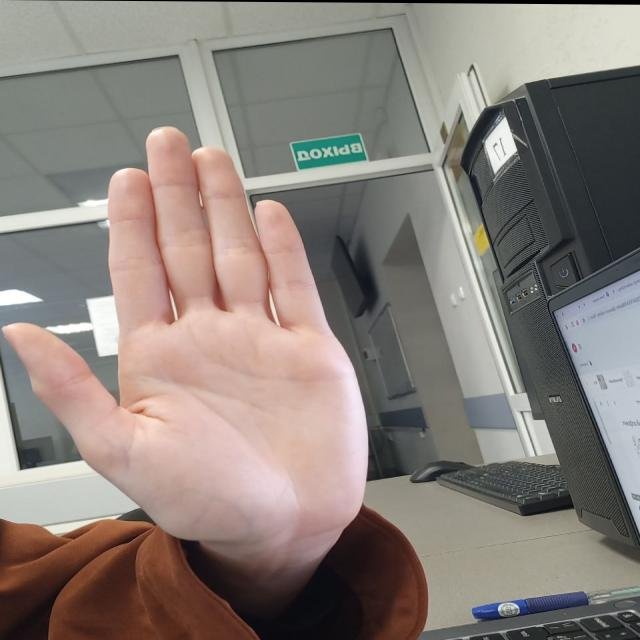v: (2, 119, 406, 551)
